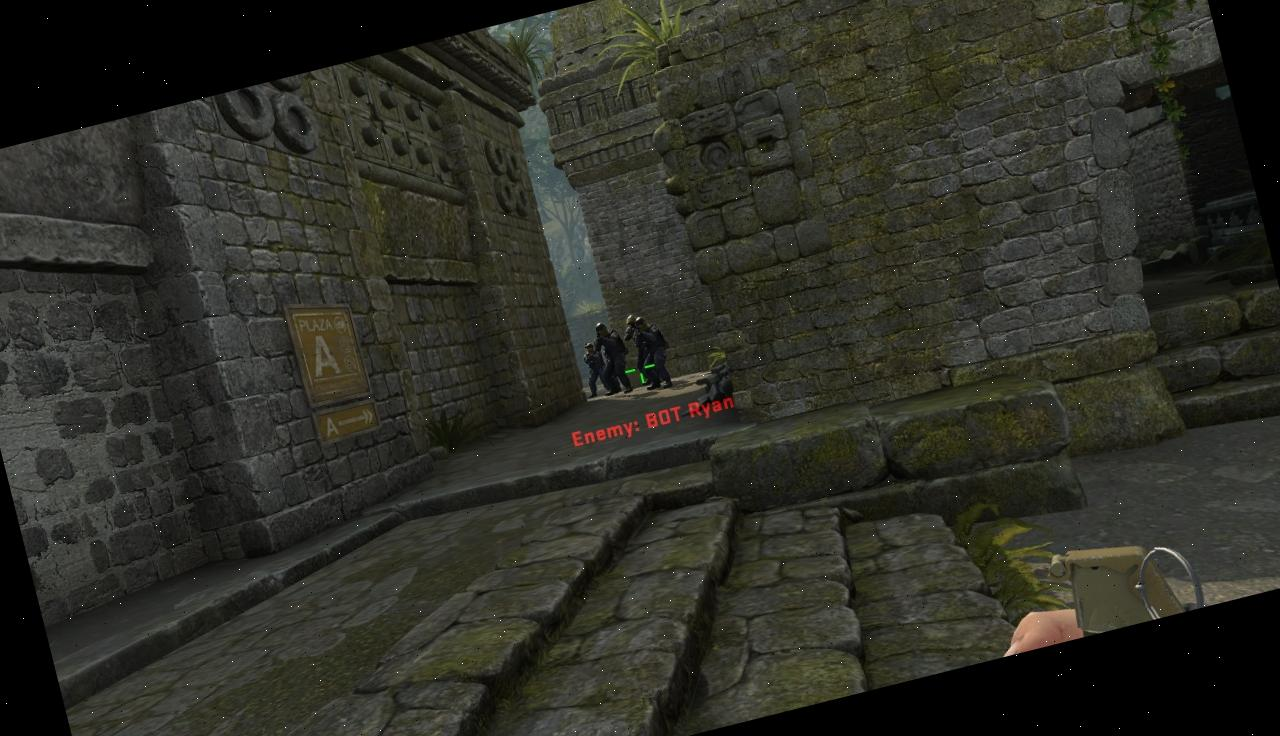ct: (624, 312, 674, 394), (588, 319, 632, 396), (579, 330, 619, 398)
cthead: (634, 314, 650, 330), (594, 322, 608, 338), (624, 314, 636, 326), (584, 342, 594, 353)
